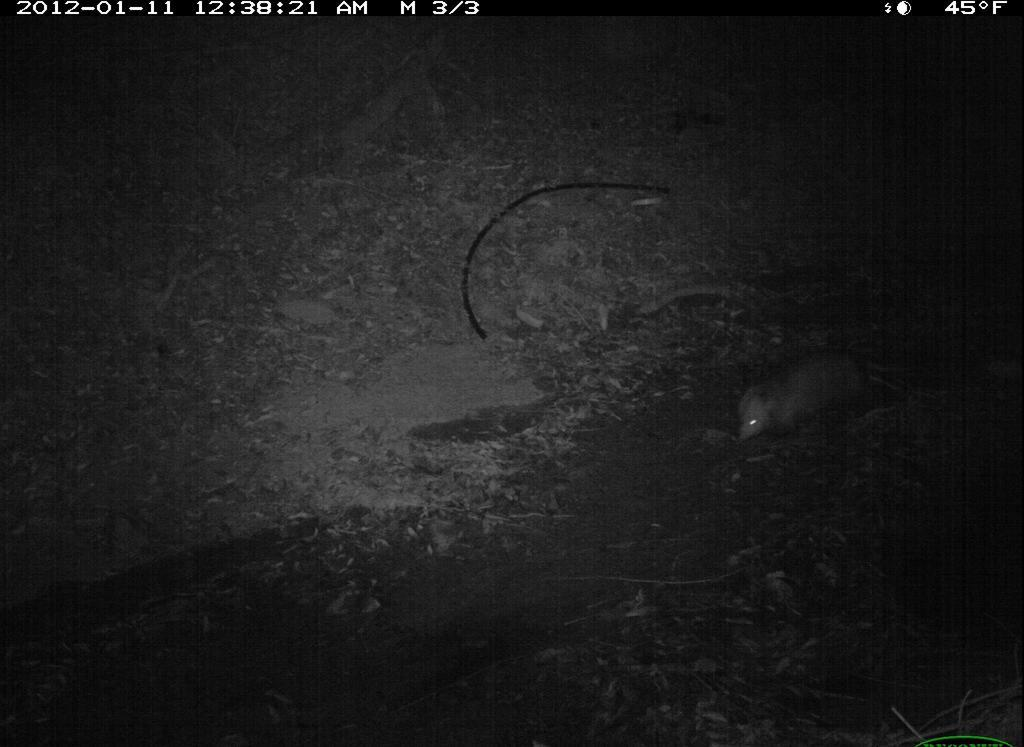opossum: (705, 336, 885, 457)
